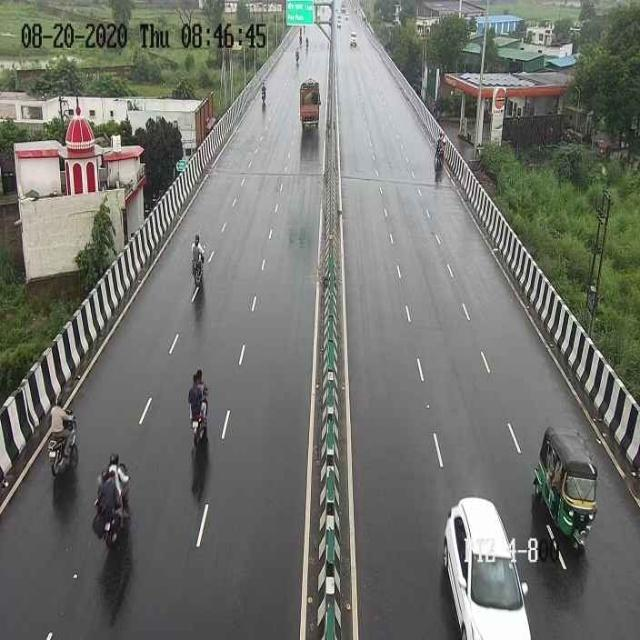car: (433, 481, 531, 638)
